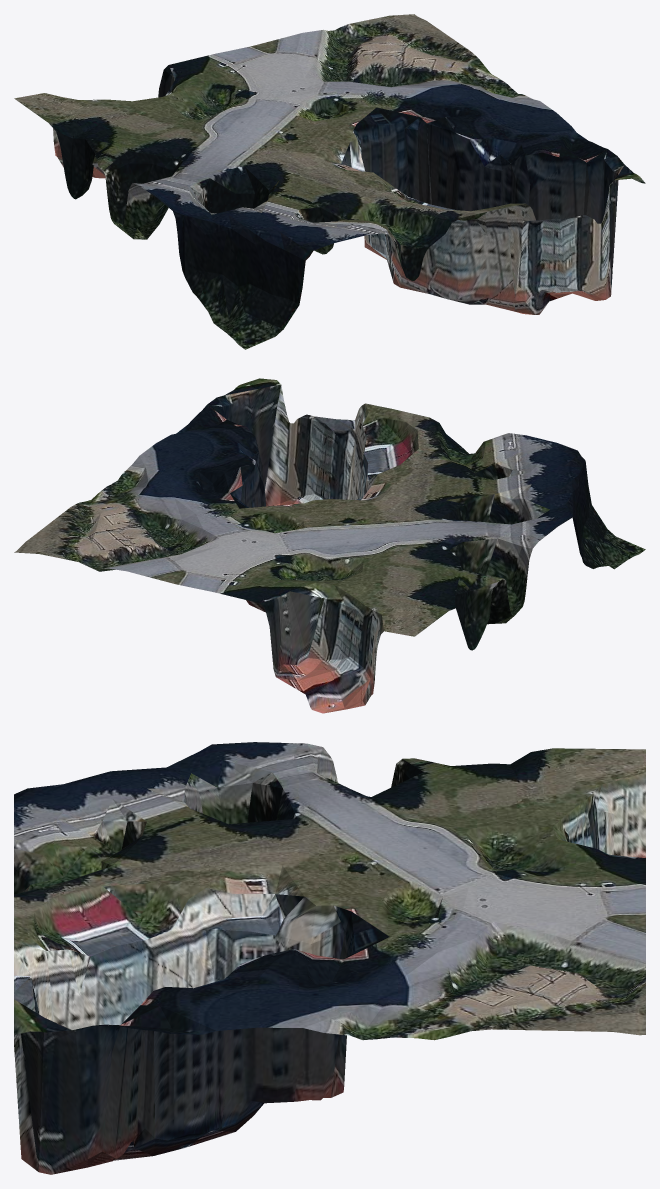
The model's file is map_15_8181_13791.dae.
The picture shows the model from 3 angles, top to bottom: view 1: azimuth 30°, elevation 25°; view 2: azimuth 150°, elevation 25°; view 3: azimuth 270°, elevation 25°; orthographic projection. The views are drawn at different scales.
Visible parts, largest first — view 1: Ter0; view 2: Ter0; view 3: Ter0.
Boxes of the visible parts, bbox=[...] form: Ter0: bbox=[14, 14, 645, 349]; Ter0: bbox=[14, 378, 645, 713]; Ter0: bbox=[14, 742, 645, 1174].
Size of the model in its own units: 63.87 by 63.88 by 22.97.
Materials: 3 (3 with a texture image).
